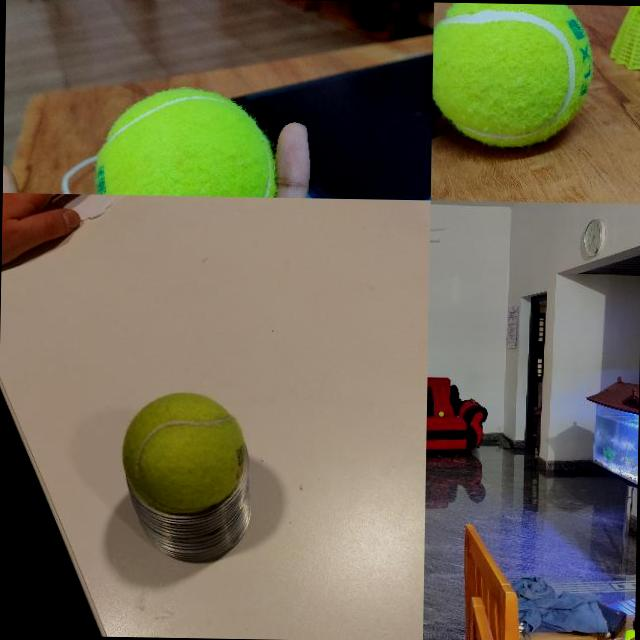tennis-ball: (432, 2, 592, 148), (95, 86, 276, 196), (120, 390, 246, 516), (438, 411, 444, 416)
